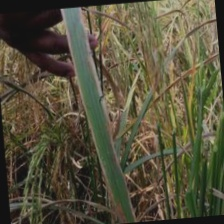Leaf_Blast: (85, 10, 124, 216)
